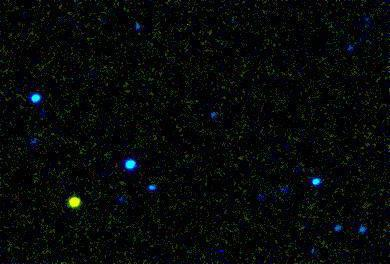star: (61, 188, 91, 218)
